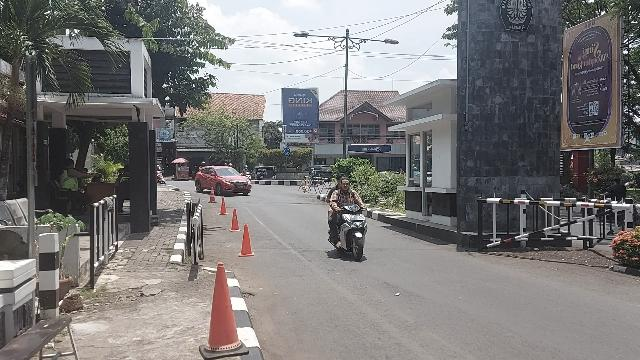motor: (329, 199, 372, 263)
non-helm: (341, 179, 351, 192), (338, 174, 347, 187)
